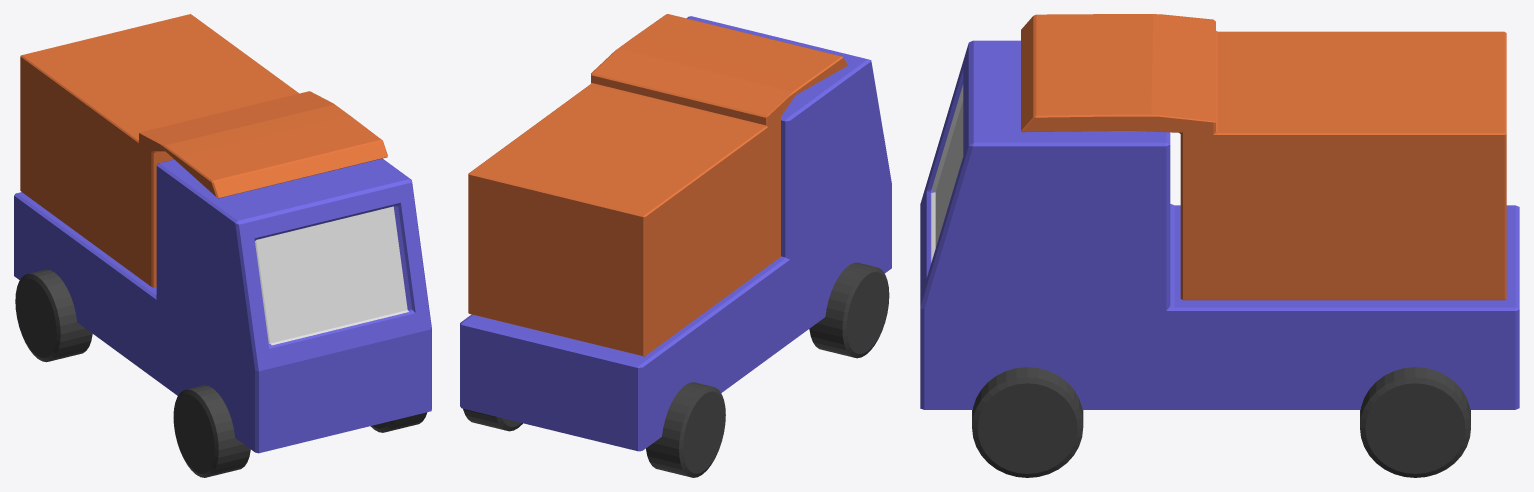
File: ToyTruck_2_Props.fbx
3 views of the same model, side by side, from view 1: azimuth 30°, elevation 25°; view 2: azimuth 150°, elevation 25°; view 3: azimuth 270°, elevation 25° (orthographic). The views are drawn at different scales.
Visible parts, largest first — view 1: TruckBody.001, TruckBack.001, TruckTire.004, TruckTire.005, TruckTire.006; view 2: TruckBack.001, TruckBody.001, TruckTire.004, TruckTire.005, TruckTire.007; view 3: TruckBody.001, TruckBack.001, TruckTire.006, TruckTire.007.
Boxes of the visible parts, x1,y1,x2,y2 form: TruckBody.001: (14, 158, 431, 453); TruckBack.001: (20, 14, 387, 287); TruckTire.004: (173, 385, 250, 477); TruckTire.005: (15, 269, 92, 362); TruckTire.006: (370, 412, 427, 432); TruckBack.001: (468, 14, 848, 356); TruckBody.001: (460, 16, 891, 451); TruckTire.004: (809, 262, 889, 358); TruckTire.005: (646, 382, 725, 477); TruckTire.007: (463, 408, 522, 431); TruckBody.001: (920, 40, 1519, 409); TruckBack.001: (1021, 14, 1506, 300); TruckTire.006: (972, 367, 1083, 477); TruckTire.007: (1360, 367, 1470, 477).
Size of the model in its own units: 80.86 by 104 by 160.
